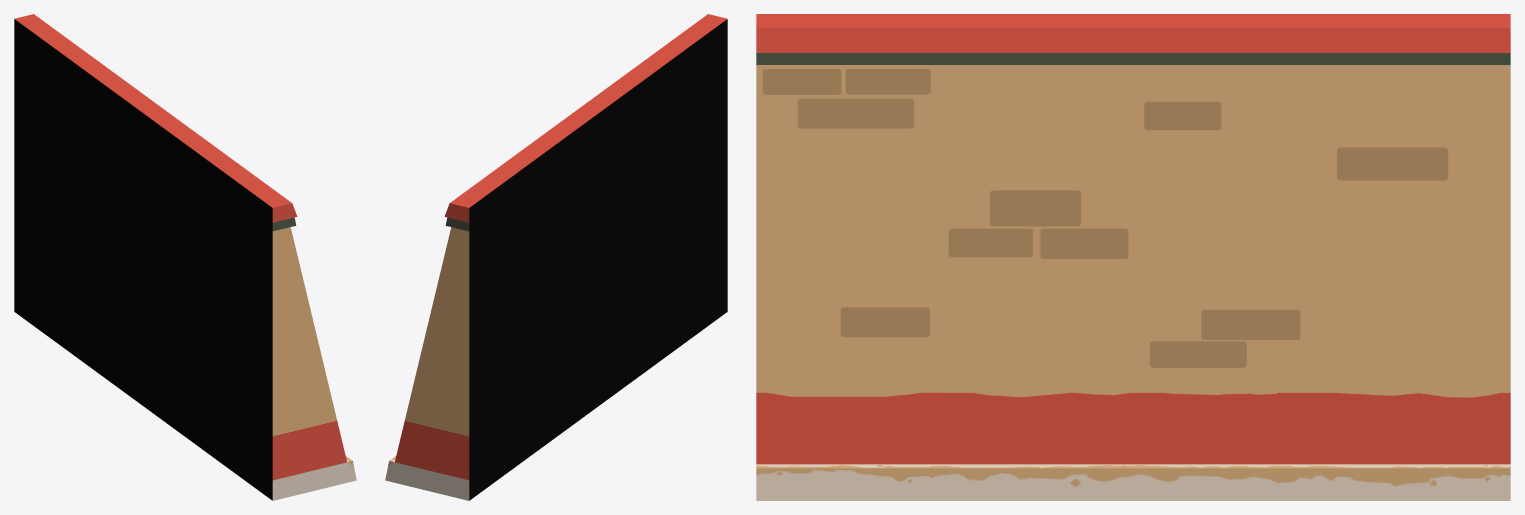
The model's file is wallThree.fbx.
3 renders of one model, left to right at view 1: azimuth 30°, elevation 25°; view 2: azimuth 150°, elevation 25°; view 3: azimuth 270°, elevation 25°, orthographic. The views are drawn at different scales.
Parts seen in each view (by area): view 1: wallThree; view 2: wallThree; view 3: wallThree.
Boxes of the visible parts, box(x1,y1,x2,y2) form: wallThree: box(14, 14, 356, 500); wallThree: box(385, 14, 727, 500); wallThree: box(756, 14, 1510, 500).
Bounding box in the file's own units: 1.5 × 5 × 8.
